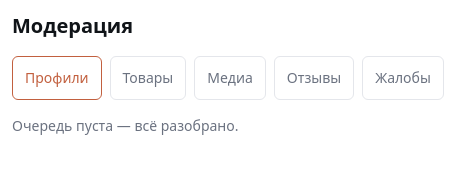
ModerationPage › очереди переключаются стрелками клавиатуры
The width and height of the screenshot is (461, 172).
Click the tab "Профили" at (57, 78), box [12,56,102,100]
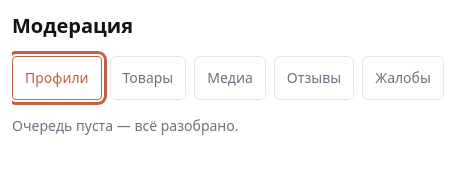
Press Arrowright
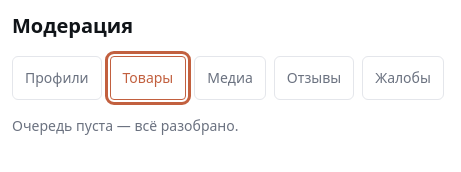
Check: the tab "Товары" is selected, box [110,56,186,100]
